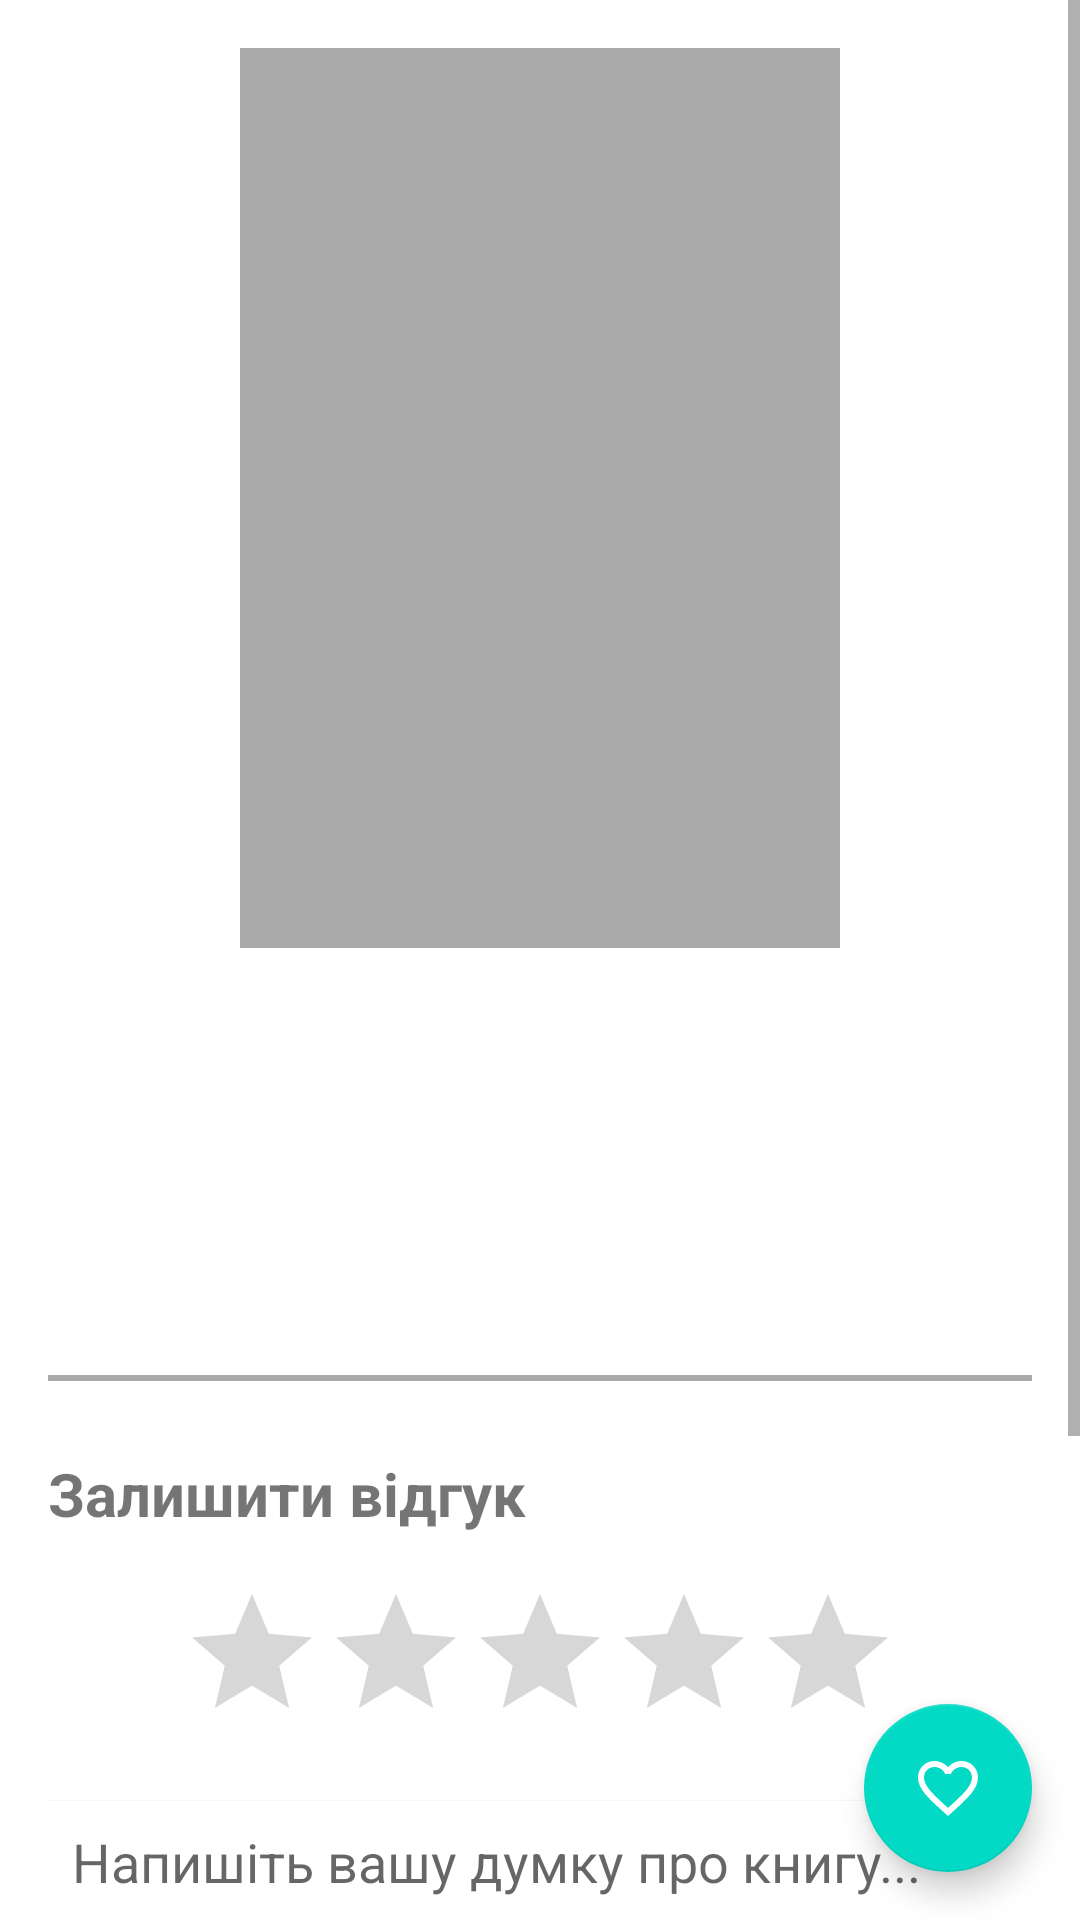

Locate icon controls on the screen. Image size 1080w x 1920h, boxes as (x1, y1, x2, y2).
favorite border: (864, 1704, 1032, 1872)
